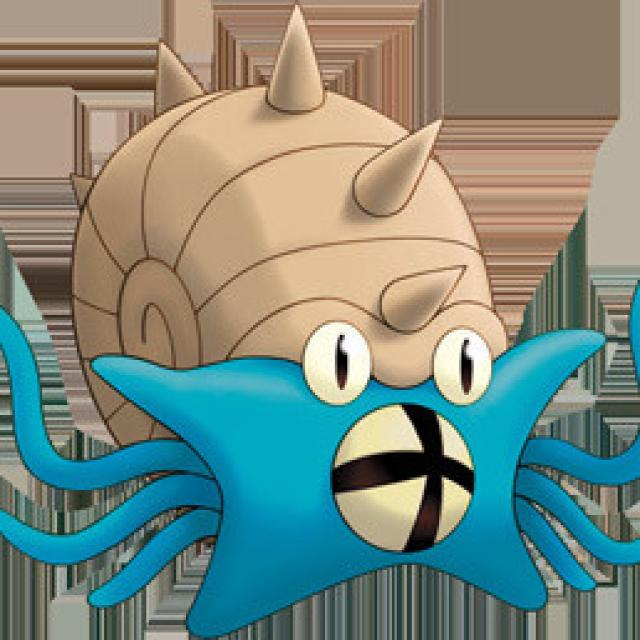Omastar: (68, 75, 603, 620)
